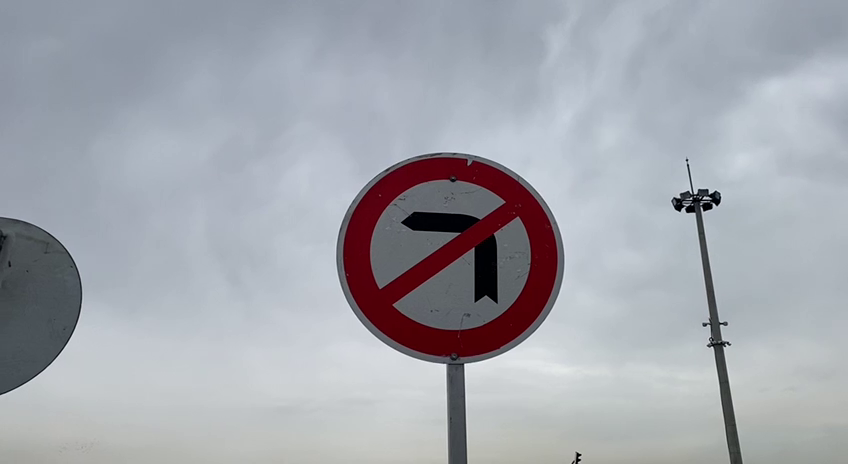noTurnLeft: (328, 148, 569, 371)
